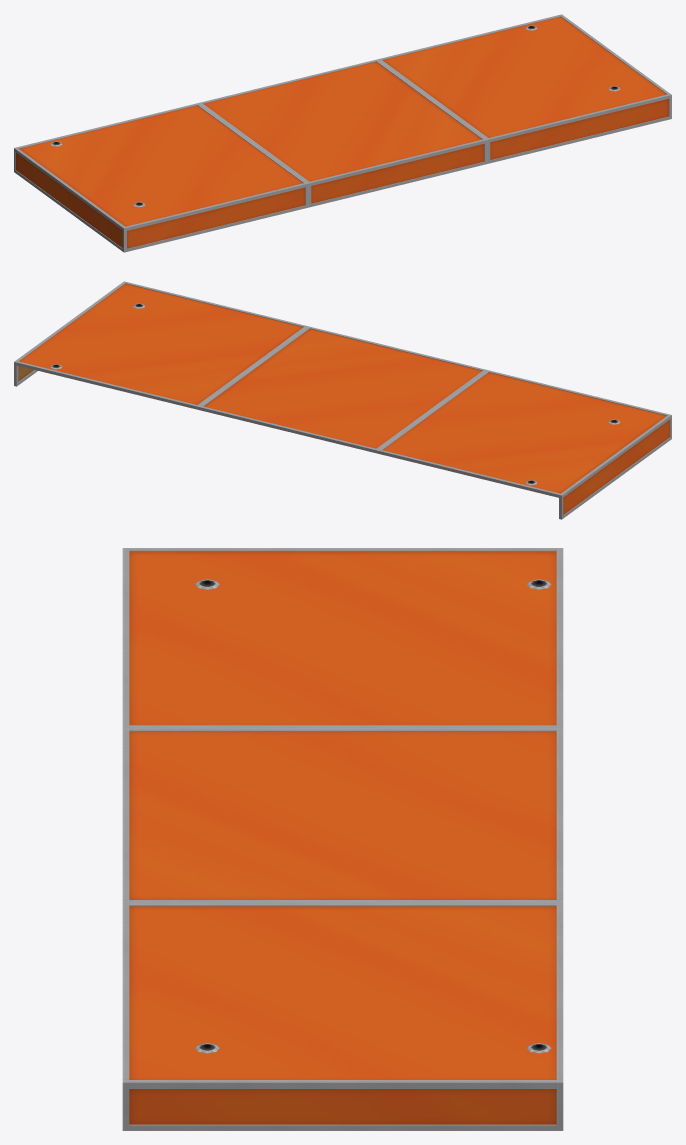
The model's file is jsf_4P_s03_c01_t01_DX.fbx.
The picture shows the model from 3 angles, top to bottom: view 1: azimuth 30°, elevation 25°; view 2: azimuth 150°, elevation 25°; view 3: azimuth 270°, elevation 25°; orthographic projection. The views are drawn at different scales.
Parts seen in each view (by area): view 1: jsf_4P_s03_c01_t01_DX; view 2: jsf_4P_s03_c01_t01_DX; view 3: jsf_4P_s03_c01_t01_DX.
Boxes of the visible parts, left/top/right/bottom form: jsf_4P_s03_c01_t01_DX: left=14, top=14, right=671, bottom=252; jsf_4P_s03_c01_t01_DX: left=14, top=281, right=671, bottom=519; jsf_4P_s03_c01_t01_DX: left=122, top=548, right=563, bottom=1130.
Size of the model in its own units: 298 by 12.99 by 104.
